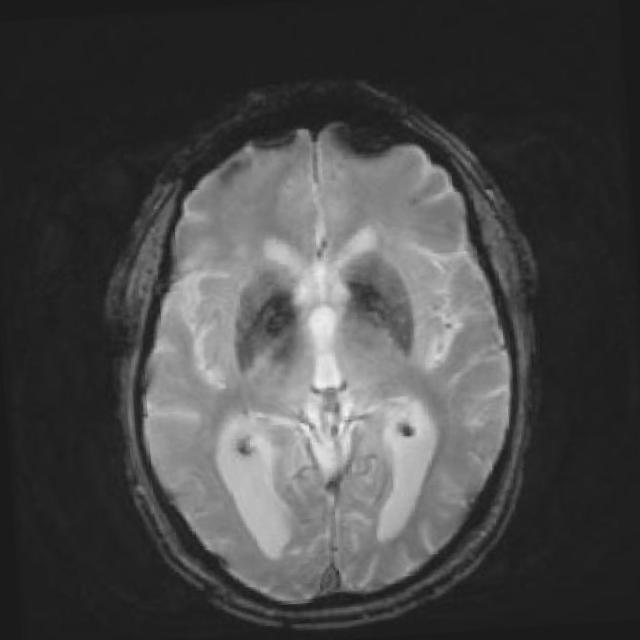MCI: (335, 238, 423, 368), (223, 290, 296, 382)
